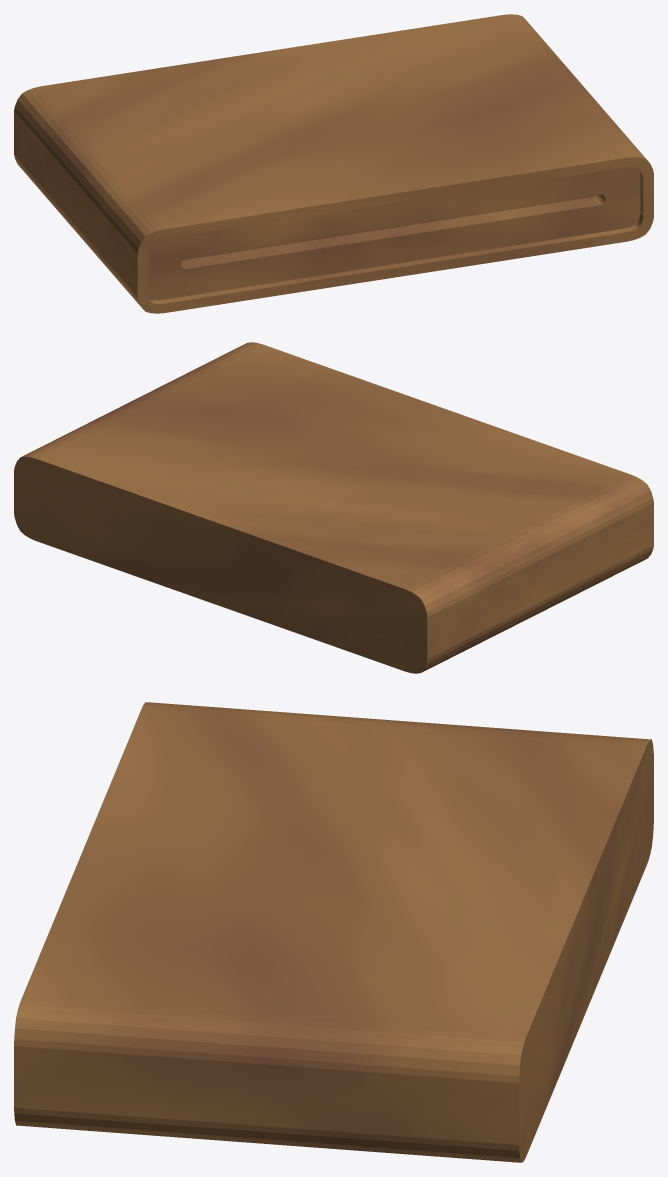
File: tvslider.fbx
The picture shows the model from 3 angles, top to bottom: view 1: azimuth 30°, elevation 25°; view 2: azimuth 150°, elevation 25°; view 3: azimuth 270°, elevation 25°; orthographic projection. The views are drawn at different scales.
Visible parts, largest first — view 1: scene.001; view 2: scene.001; view 3: scene.001.
Boxes of the visible parts, left/top/right/bottom form: scene.001: left=14, top=14, right=653, bottom=313; scene.001: left=14, top=342, right=653, bottom=673; scene.001: left=14, top=702, right=653, bottom=1162.
Size of the model in its own units: 341 by 52.38 by 254.
1 material, 1 textured.
